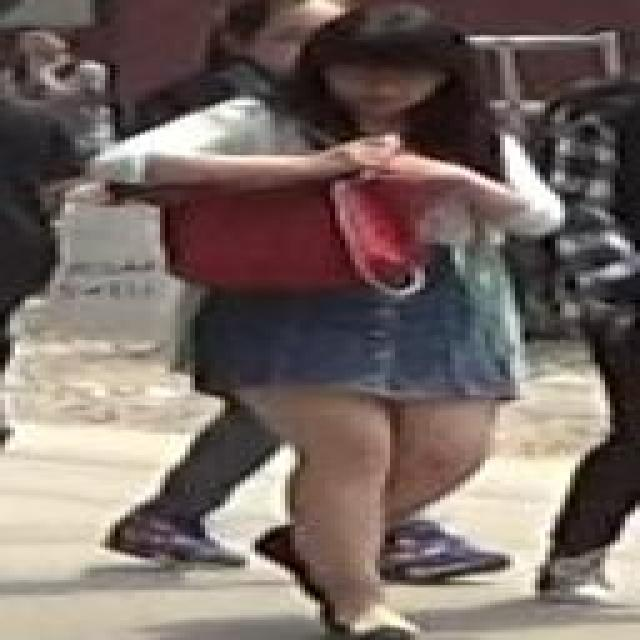adult: (125, 13, 581, 629), (158, 5, 456, 563), (13, 27, 127, 175)
